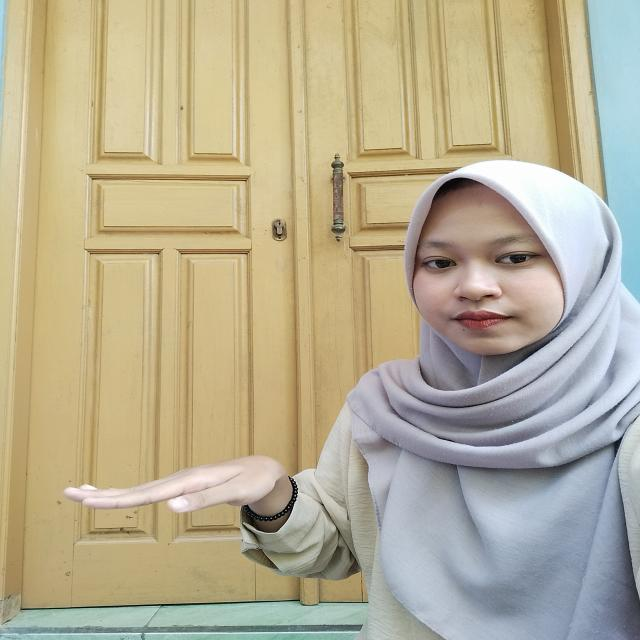adik: (61, 439, 308, 549)
